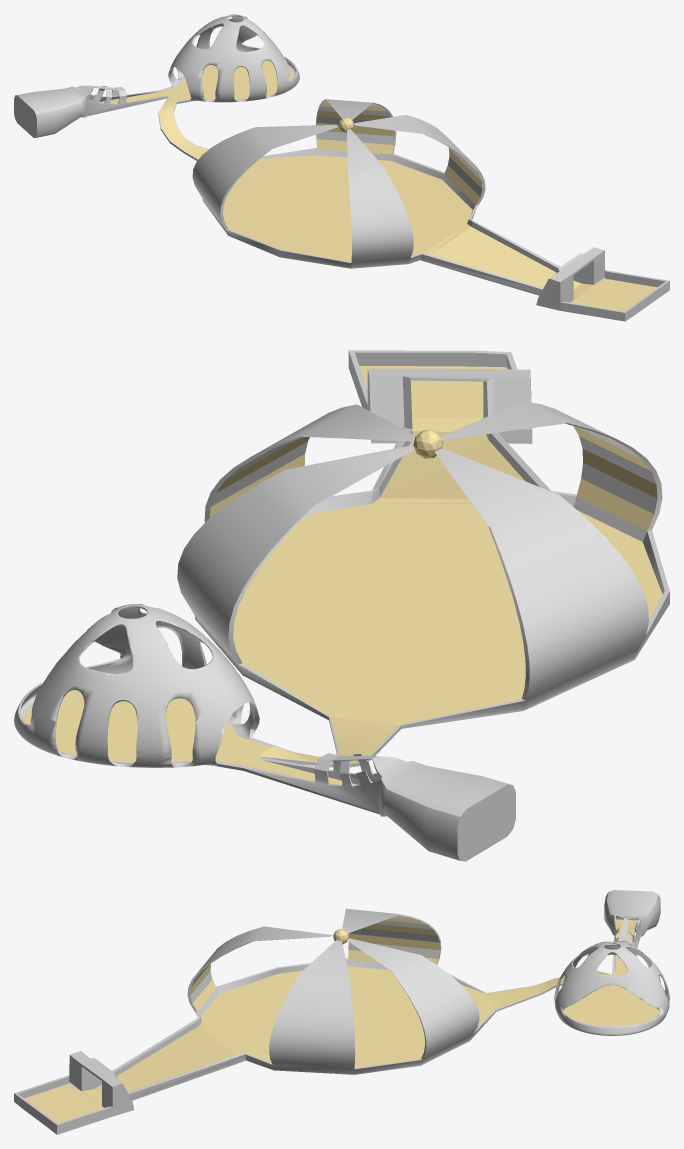
Rendered from Lara's Environment.glb.
3 renders of one model, top to bottom at view 1: azimuth 30°, elevation 25°; view 2: azimuth 150°, elevation 25°; view 3: azimuth 270°, elevation 25°, orthographic. The views are drawn at different scales.
Parts seen in each view (by area): view 1: Object001, Gold; view 2: Object001, Gold; view 3: Object001, Gold.
Part boxes in pixels (left/top/right/bottom): Object001: left=14, top=14, right=669, bottom=321; Gold: left=100, top=60, right=656, bottom=311; Object001: left=14, top=350, right=669, bottom=861; Gold: left=23, top=366, right=662, bottom=785; Object001: left=14, top=890, right=669, bottom=1134; Gold: left=24, top=915, right=660, bottom=1123.
Size of the model in its own units: 81.77 by 24.71 by 127.
